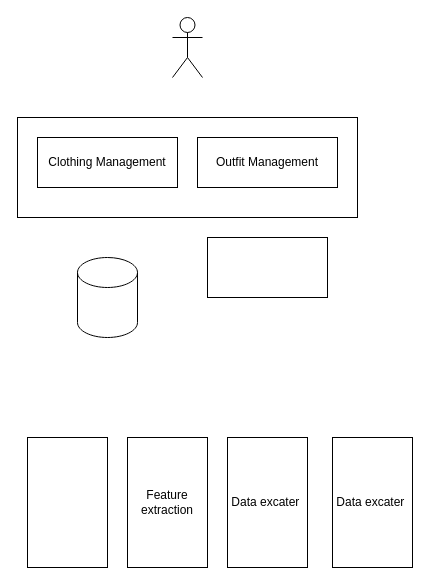
The diagram is 430 pixels wide and 585 high, and some of its shapes have lost their labels. The shapes that lost their labels are listed below. From the top down, each one's centre as x and y in pixels, then its label:
At (x=187, y=47): "User".
At (x=267, y=267): "Integration with Wether API".
At (x=107, y=297): "DB".
